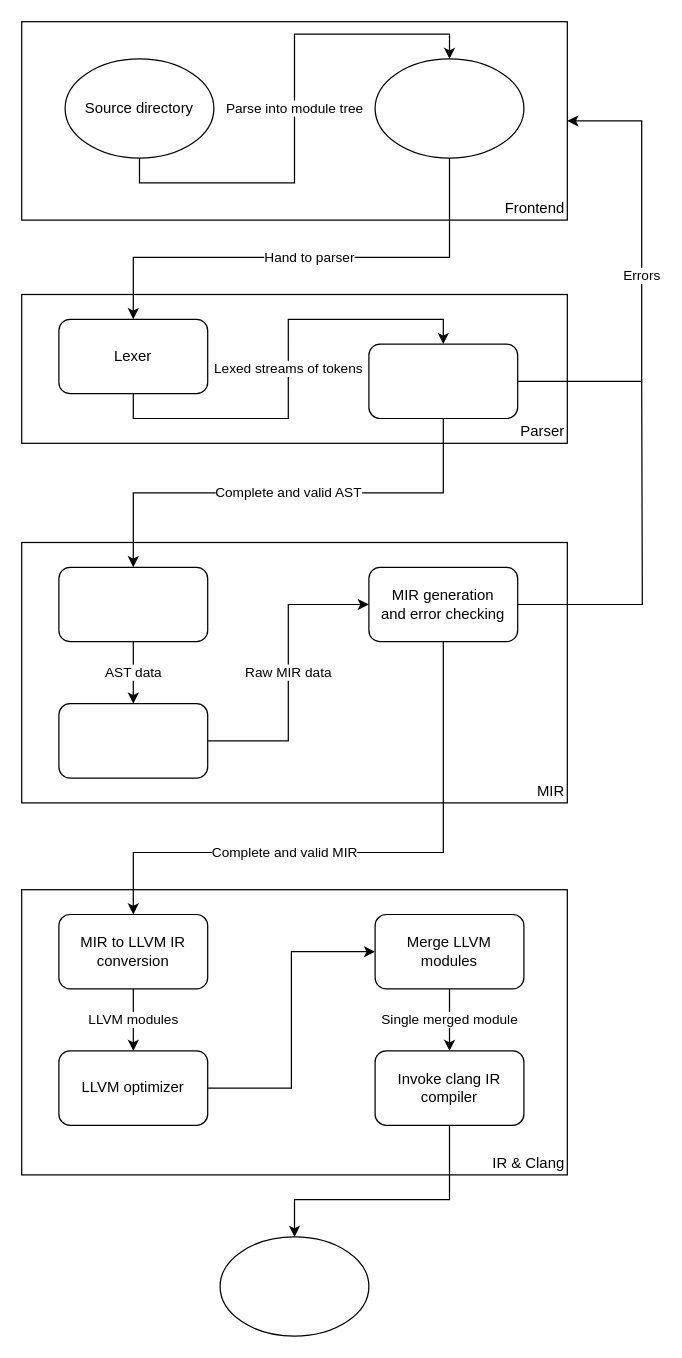
Some shapes in this 682 by 1358 pixel diagram are drawn without their labels. Here are the shapes that lost their labels. From the top down, the centre of each, then its label:
At (x=449, y=108): "Raw source files, organized into modules".
At (x=443, y=380): "Parser & Syntax validator".
At (x=133, y=604): "AST data collection passes".
At (x=133, y=740): "AST to MIR data type conversion".
At (x=294, y=1286): "Final executable".
